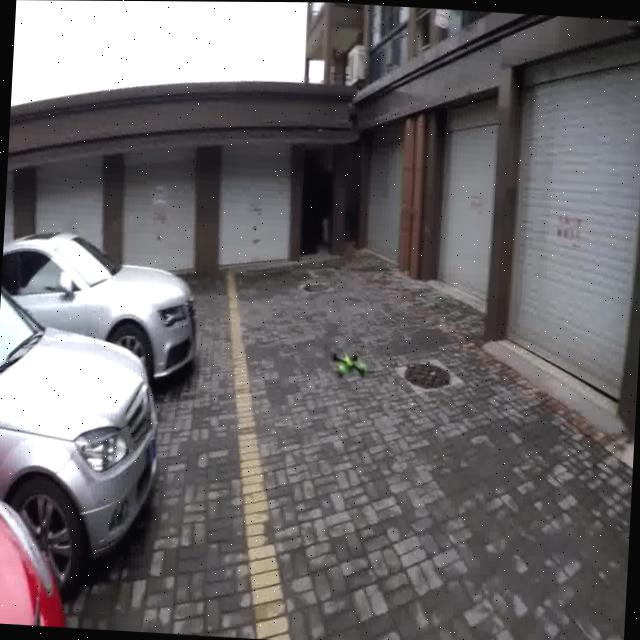drone: (319, 332, 387, 388)
